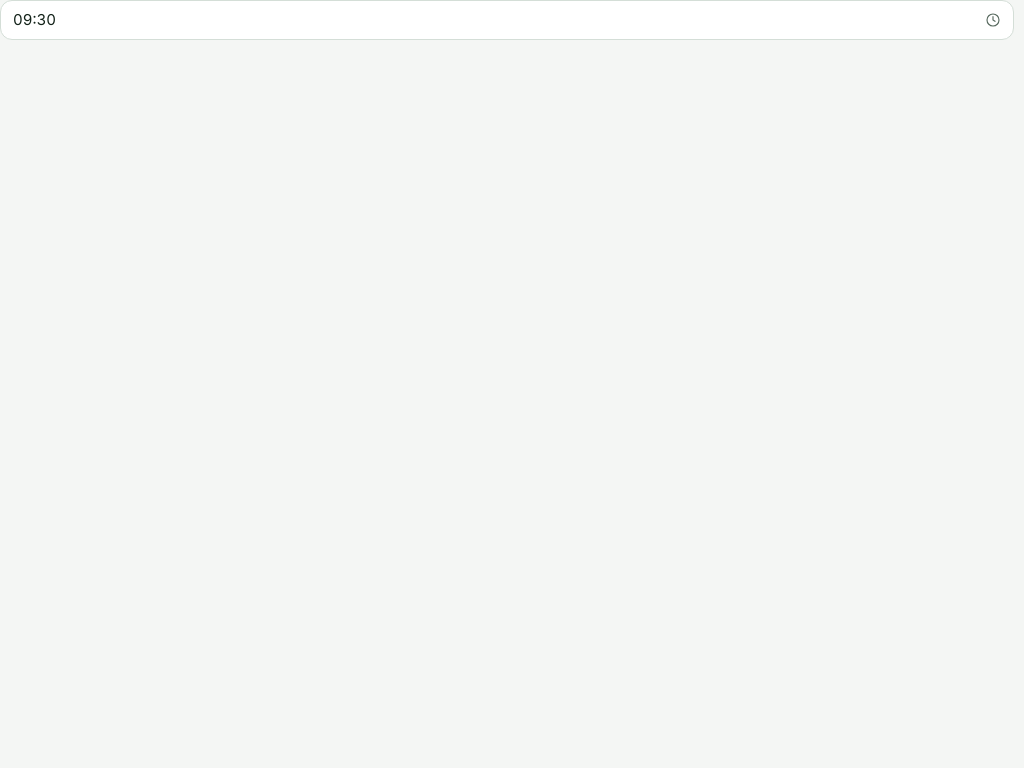
Test: NuqtaTimePicker › discards the draft on Cancel
Click the dropdown named "Pick time" at (34, 20), box x1=0 y1=0 x2=1014 y2=40
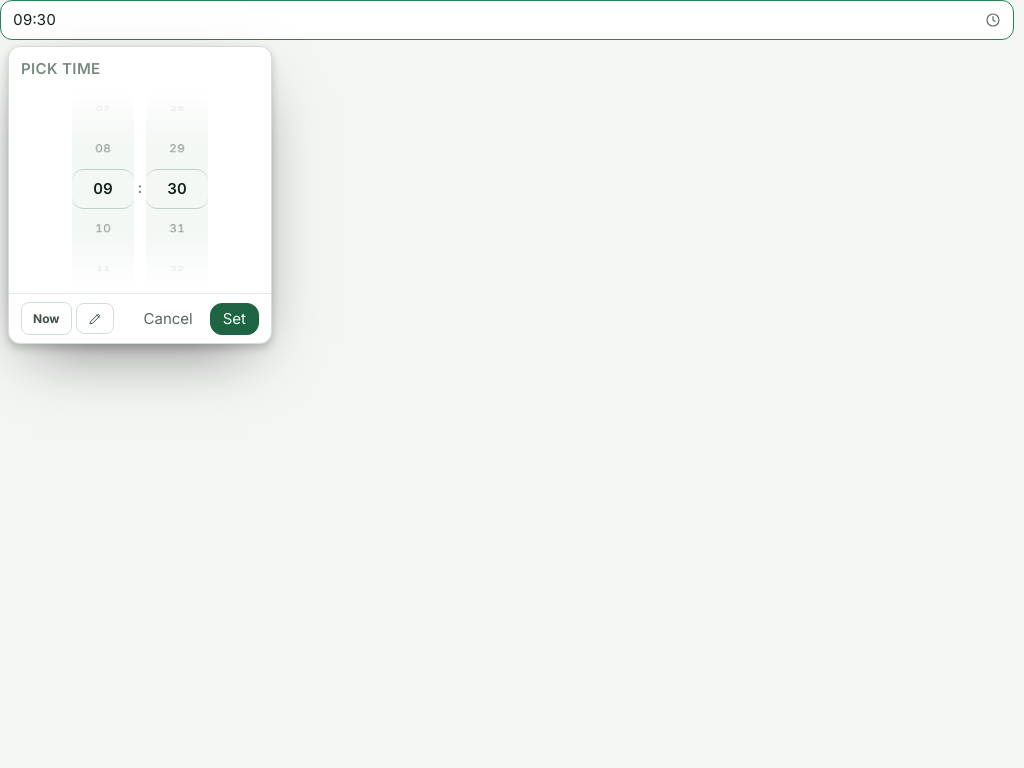
Press ArrowDown in the list named "Hour", box x1=72 y1=89 x2=134 y2=289
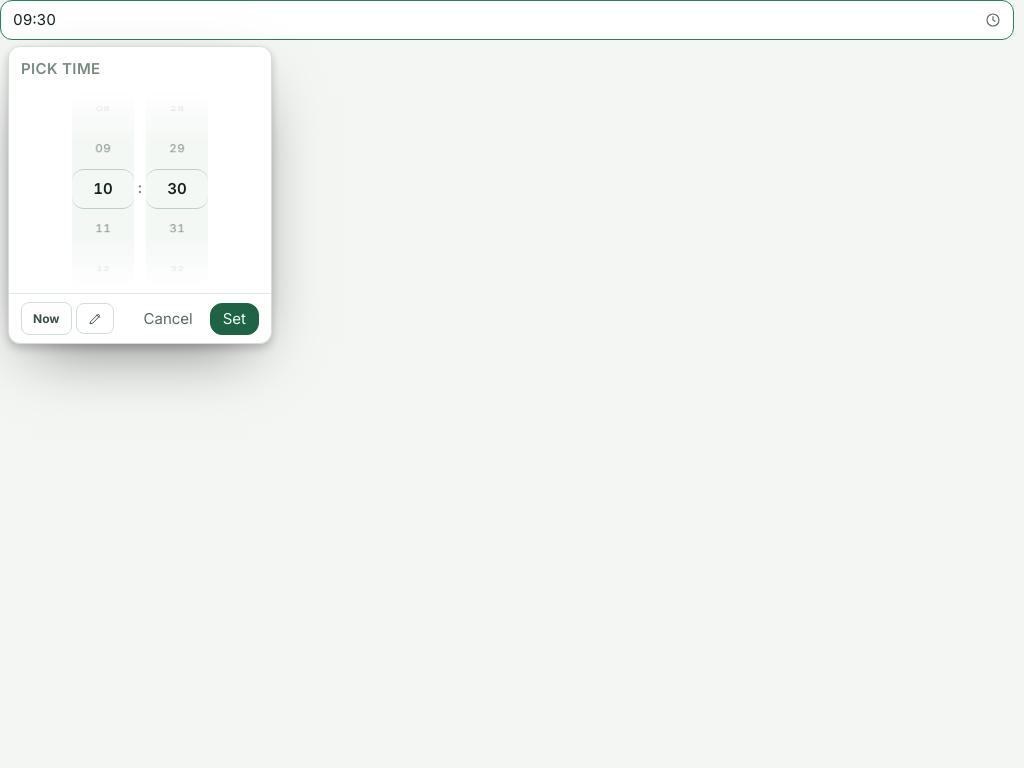
Click the button "Cancel" at (168, 319), box x1=130 y1=303 x2=206 y2=335
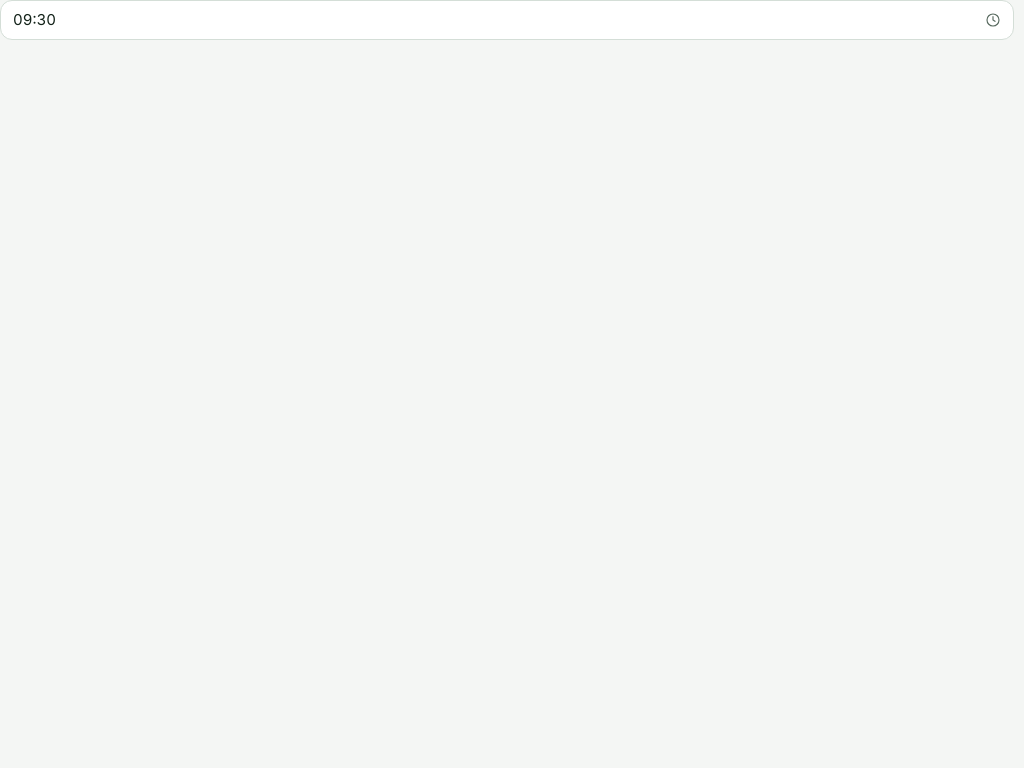
Expected: the dialog is gone
